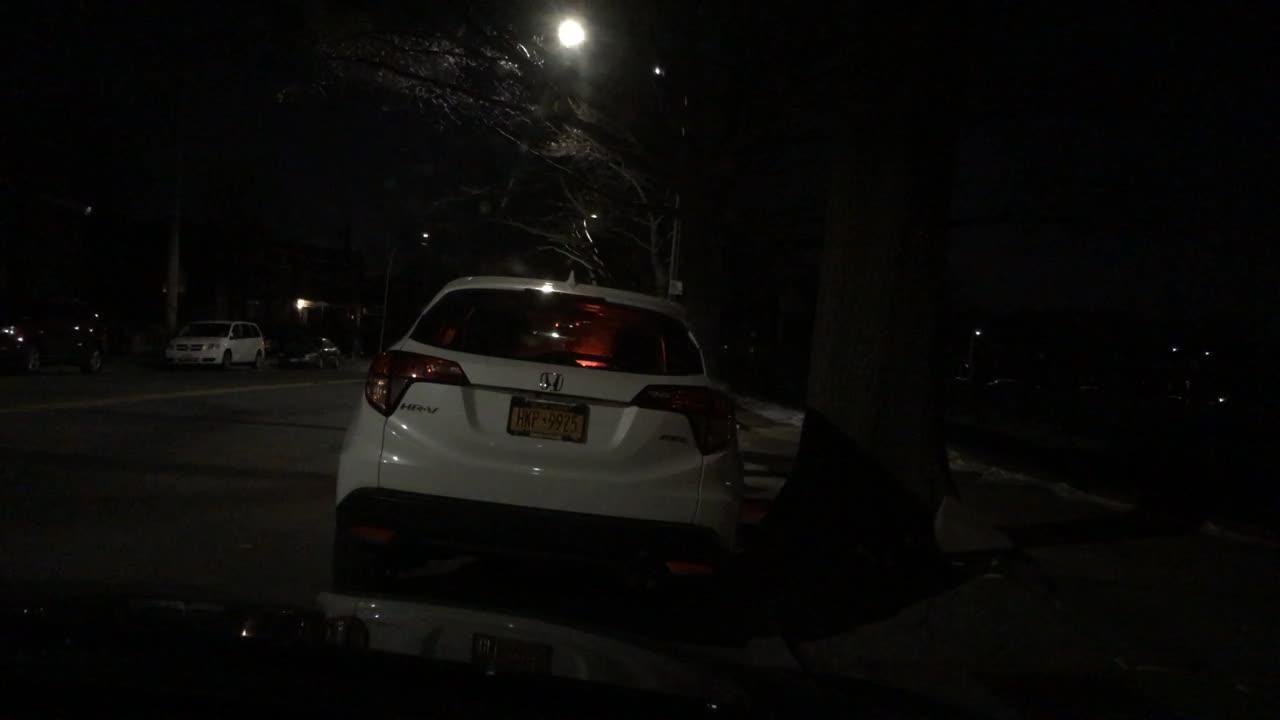Honda: (530, 365, 574, 401)
